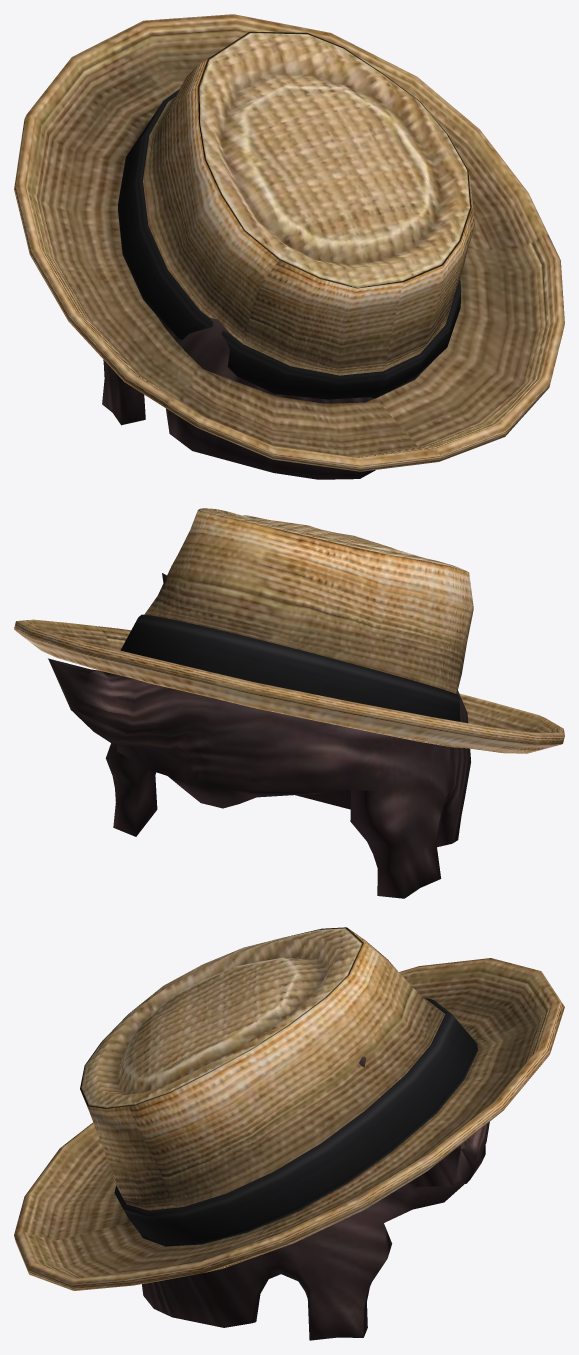
Rendered from acc.glb.
The picture shows the model from 3 angles, top to bottom: view 1: azimuth 30°, elevation 25°; view 2: azimuth 150°, elevation 25°; view 3: azimuth 270°, elevation 25°; orthographic projection. The views are drawn at different scales.
Visible parts, largest first — view 1: Handle, Handle.001; view 2: Handle, Handle.001; view 3: Handle, Handle.001.
Part boxes in pixels (box(x1,y1,x2,y2)): Handle: box(14, 14, 564, 471); Handle.001: box(102, 316, 375, 479); Handle: box(14, 508, 564, 753); Handle.001: box(48, 573, 470, 898); Handle: box(14, 927, 564, 1290); Handle.001: box(142, 1056, 489, 1340).
Size of the model in its own units: 2.12 by 1.58 by 2.23.
Materials: 2 (2 with a texture image).
